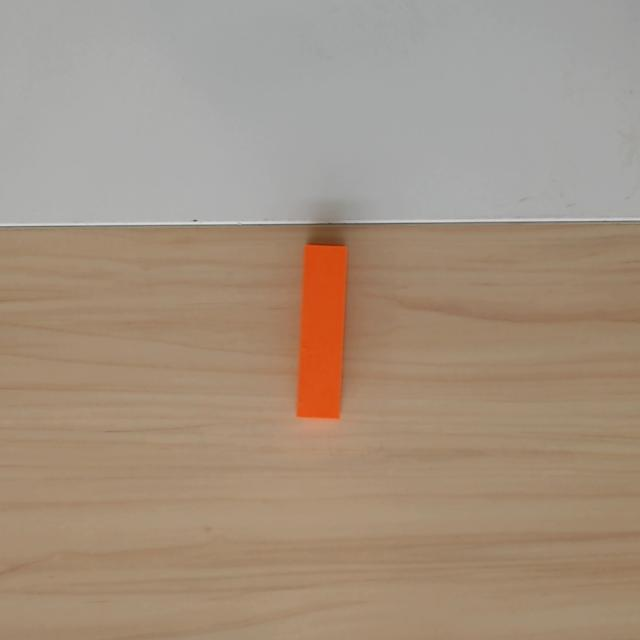Balok-Jingga-1002525: (295, 243, 349, 420)
